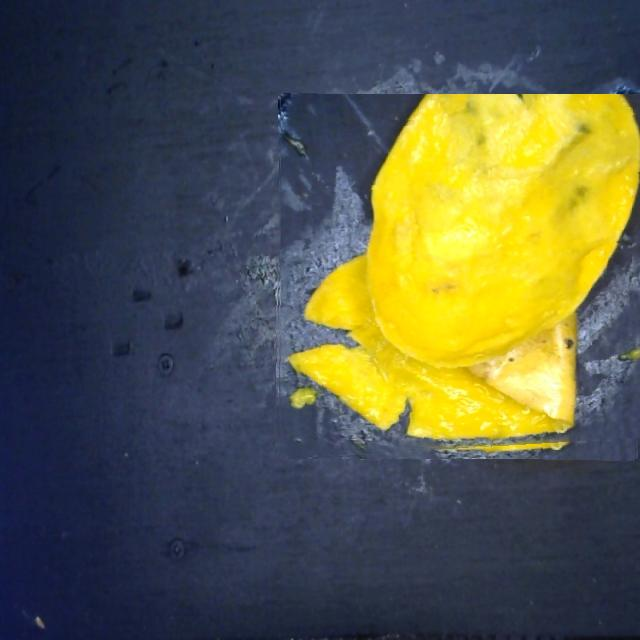biodegradable: (275, 94, 640, 459)
